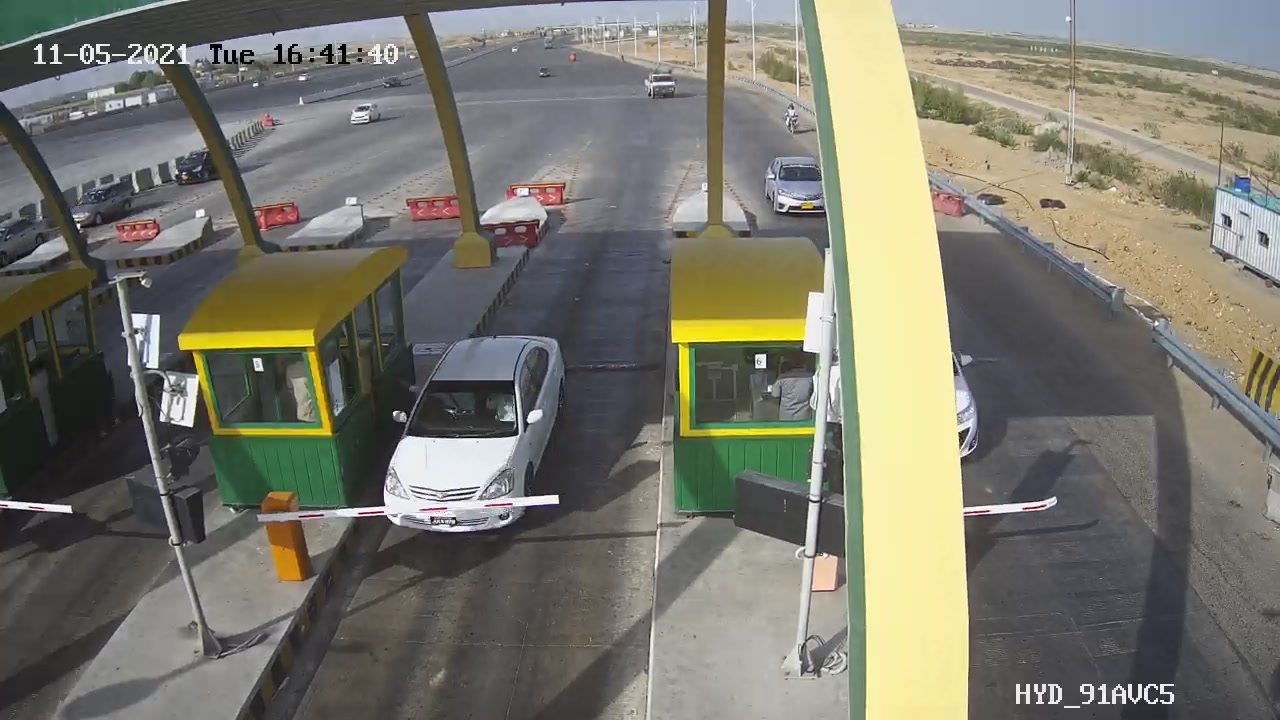F1: (362, 323, 591, 554)
